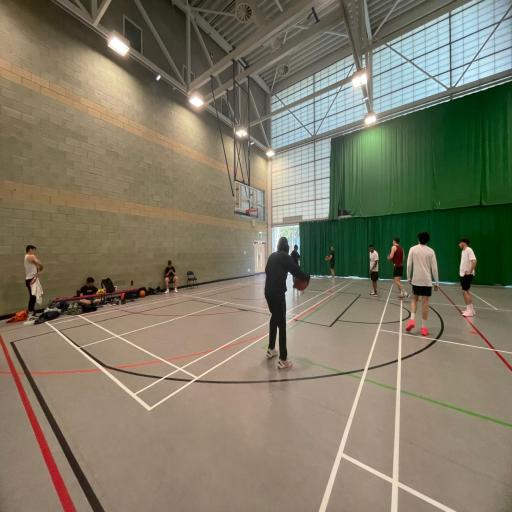hoops: (245, 207, 263, 227)
